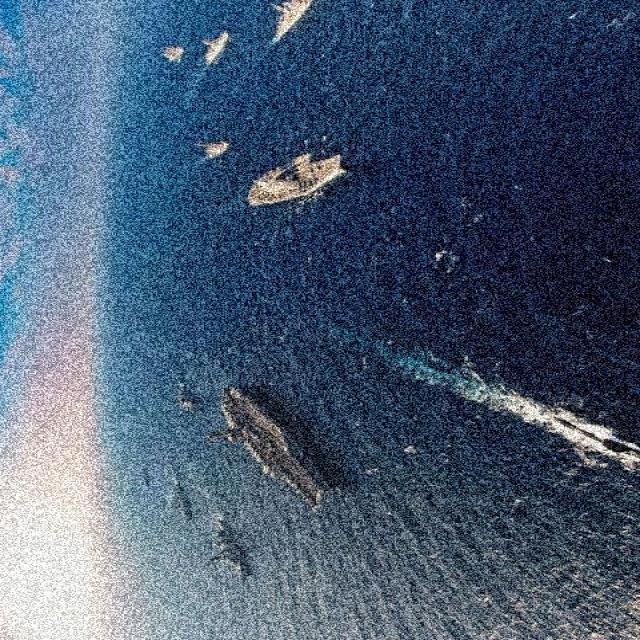ship2: (218, 388, 328, 509), (246, 153, 346, 208)
